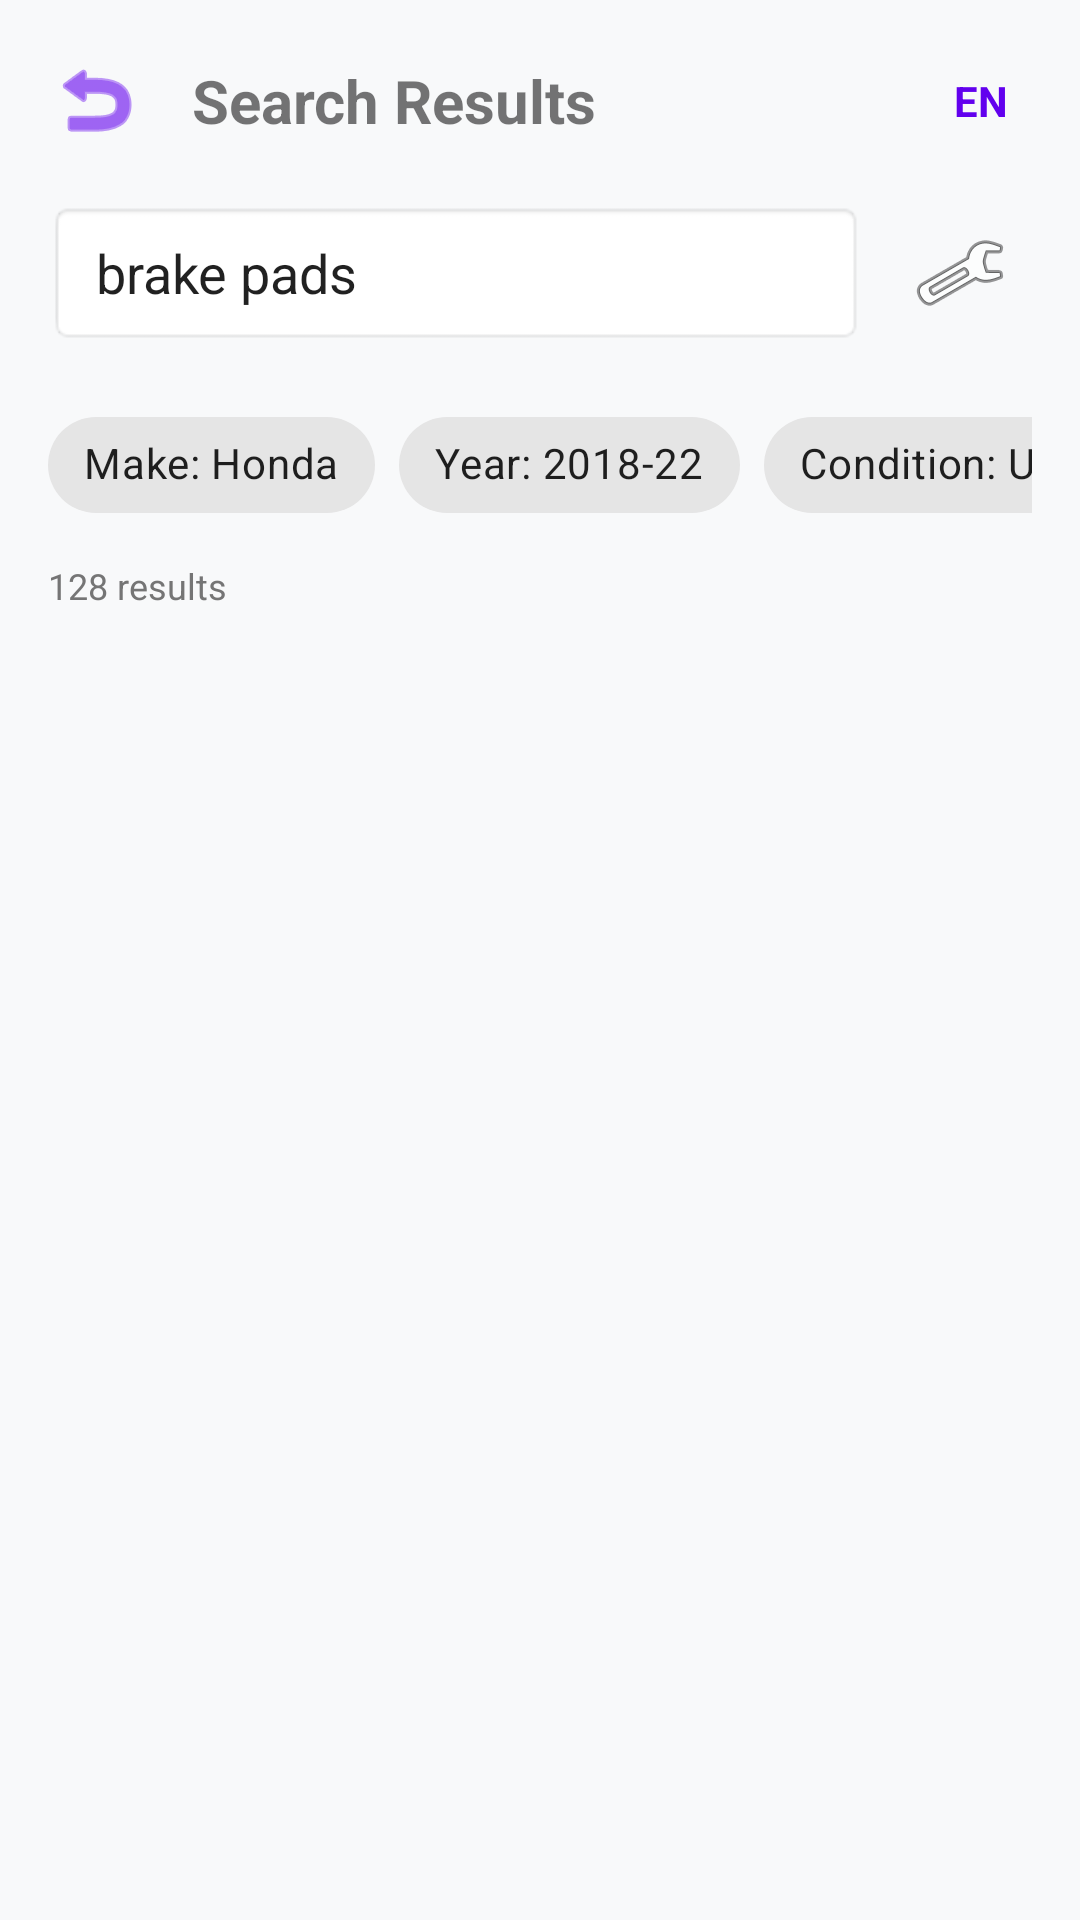

Screen size 1080x1920. Icon name, then its box in pixels as box=[x1, y1, x2, y2]:
Back: box=[63, 69, 132, 132]
